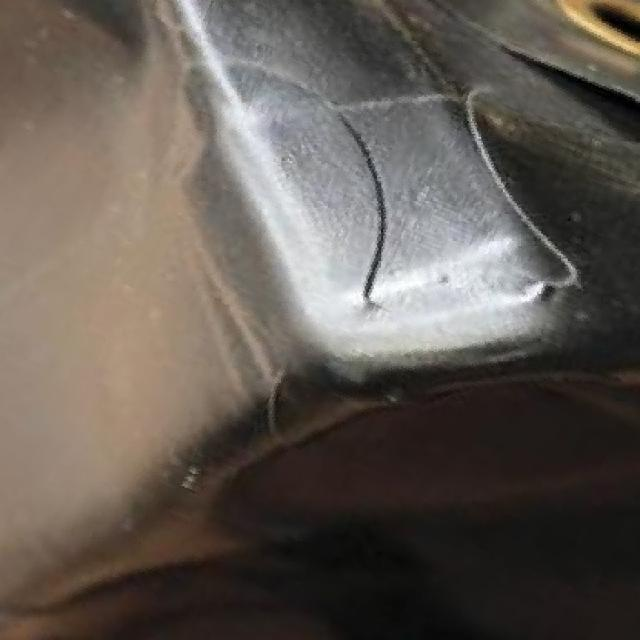crack: (342, 116, 387, 303)
dent: (208, 41, 352, 380)
